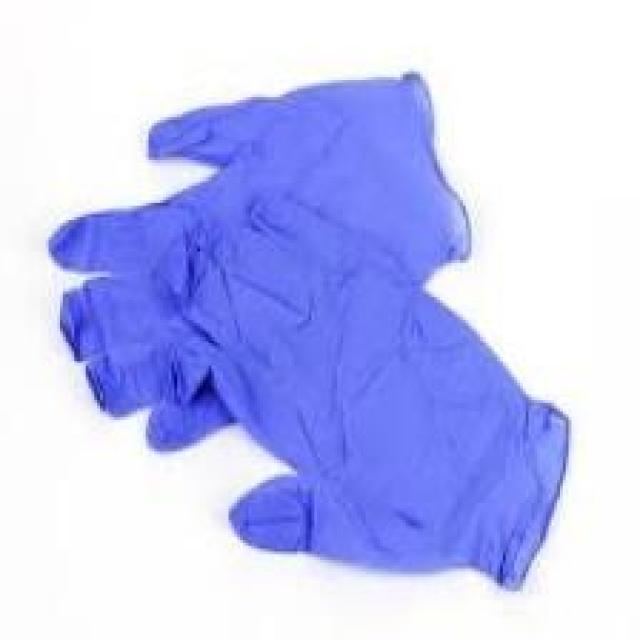Glove: (49, 39, 589, 618)
